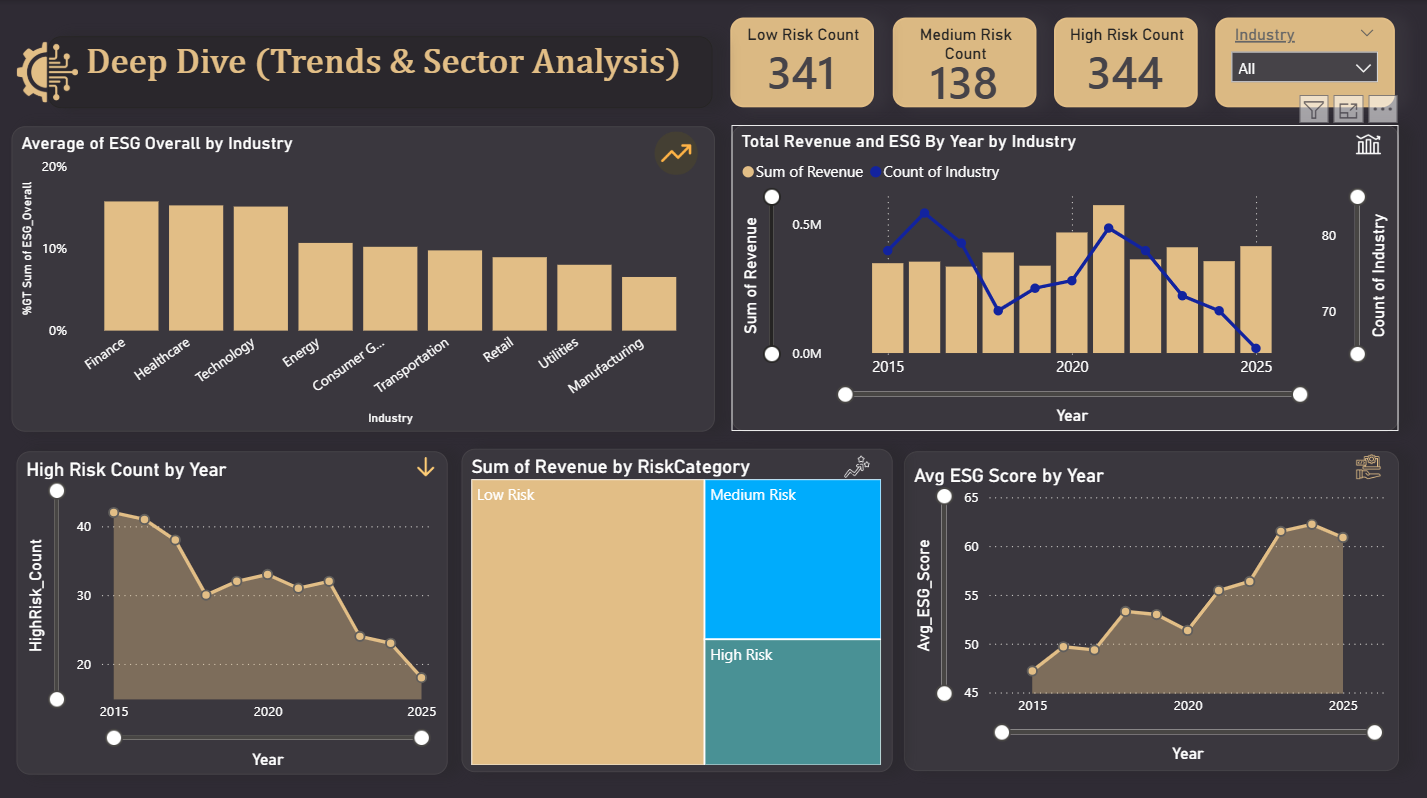

The page's visual inventory and layout, read from the dashboard file:
{"tool":"powerbi","page":{"name":"ESG Risk & Sector Trends","canvas":[1280,720],"ordinal":1},"visuals":[{"type":"card","title":"Medium Risk Count","fields":{"Values":["Facts_ESG.MediumRisk_Count"]},"box":[800,16,128,80],"z":0},{"type":"card","title":"Low Risk  Count","fields":{"Values":["Facts_ESG.LowRisk_Count"]},"box":[656,16,128,80],"z":1000},{"type":"card","title":"High Risk Count","fields":{"Values":["Facts_ESG.HighRisk_Count"]},"box":[944,16,128,80],"z":2000},{"type":"slicer","fields":{"Values":["Facts_ESG.Industry"]},"box":[1088,16,160,80],"z":3000},{"type":"clusteredColumnChart","title":"Average of ESG Overall by Industry","fields":{"Category":["Facts_ESG.Industry"],"Y":["Sum(Facts_ESG.ESG_Overall)"]},"box":[16,112,626,272],"z":4000},{"type":"lineClusteredColumnComboChart","title":"Total Revenue and ESG By Year by Industry","fields":{"Category":["Facts_ESG.Year"],"Y2":["CountNonNull(Facts_ESG.Industry)"],"Y":["Sum(Facts_ESG.Revenue)"]},"box":[657,111,594,273],"z":5000},{"type":"lineChart","title":"High Risk Count by Year","fields":{"Category":["Facts_ESG.Year"],"Y":["Facts_ESG.HighRisk_Count"]},"box":[20,402,384,288],"z":6000},{"type":"lineChart","title":"Avg ESG Score by Year","fields":{"Category":["Facts_ESG.Year"],"Y":["Facts_ESG.Avg_ESG_Score"]},"box":[810,402,441,285],"z":7000},{"type":"treemap","fields":{"Group":["Facts_ESG.RiskCategory"],"Values":["Sum(Facts_ESG.Revenue)"]},"box":[416,400,384,288],"z":8000},{"type":"textbox","box":[48,32,592,64],"z":9000},{"type":"image","box":[16,32,64,64],"z":10000},{"type":"image","box":[576,112,64,48],"z":11000},{"type":"image","box":[752,400,32,32],"z":12000},{"type":"image","box":[1200,112,48,32],"z":13000},{"type":"image","box":[368,400,32,32],"z":14000},{"type":"image","box":[1200,400,48,32],"z":15000}]}

Visuals, with their boxes in screenshot pixels (x1, y1, x2, y2), scaled from the page's 1280x720 canvas onto the 1427x798 screenshot:
"Medium Risk Count" card: 892, 18, 1035, 106
"Low Risk  Count" card: 731, 18, 874, 106
"High Risk Count" card: 1052, 18, 1195, 106
slicer - Facts_ESG.Industry: 1213, 18, 1391, 106
"Average of ESG Overall by Industry" clusteredColumnChart: 18, 124, 716, 426
"Total Revenue and ESG By Year by Industry" lineClusteredColumnComboChart: 732, 123, 1395, 426
"High Risk Count by Year" lineChart: 22, 446, 450, 765
"Avg ESG Score by Year" lineChart: 903, 446, 1395, 761
treemap - Facts_ESG.RiskCategory x Sum(Facts_ESG.Revenue): 464, 443, 892, 763
textbox: 54, 35, 714, 106
image: 18, 35, 89, 106
image: 642, 124, 714, 177
image: 838, 443, 874, 479
image: 1338, 124, 1391, 160
image: 410, 443, 446, 479
image: 1338, 443, 1391, 479
